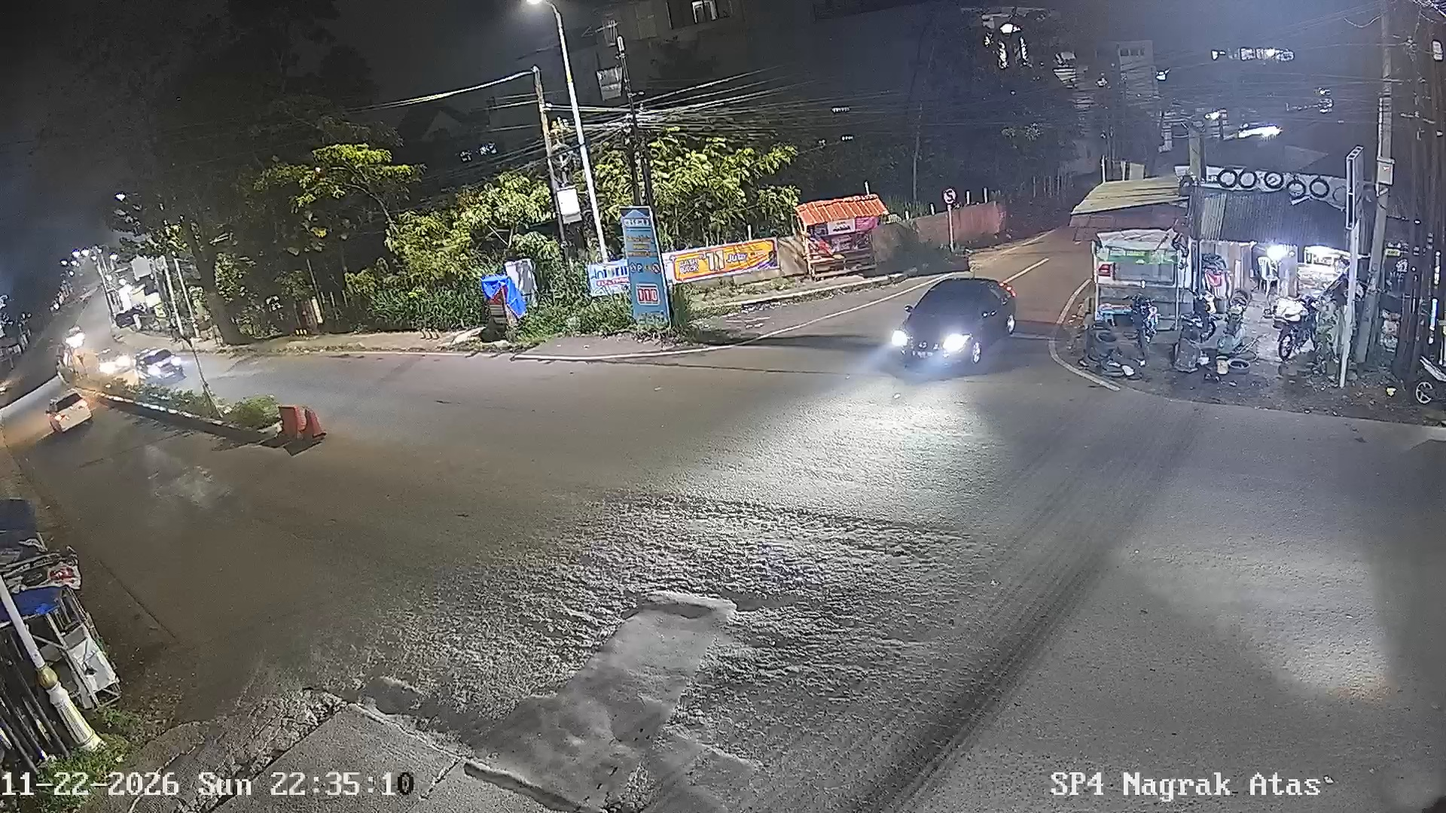Gerobak: (1089, 226, 1193, 337)
